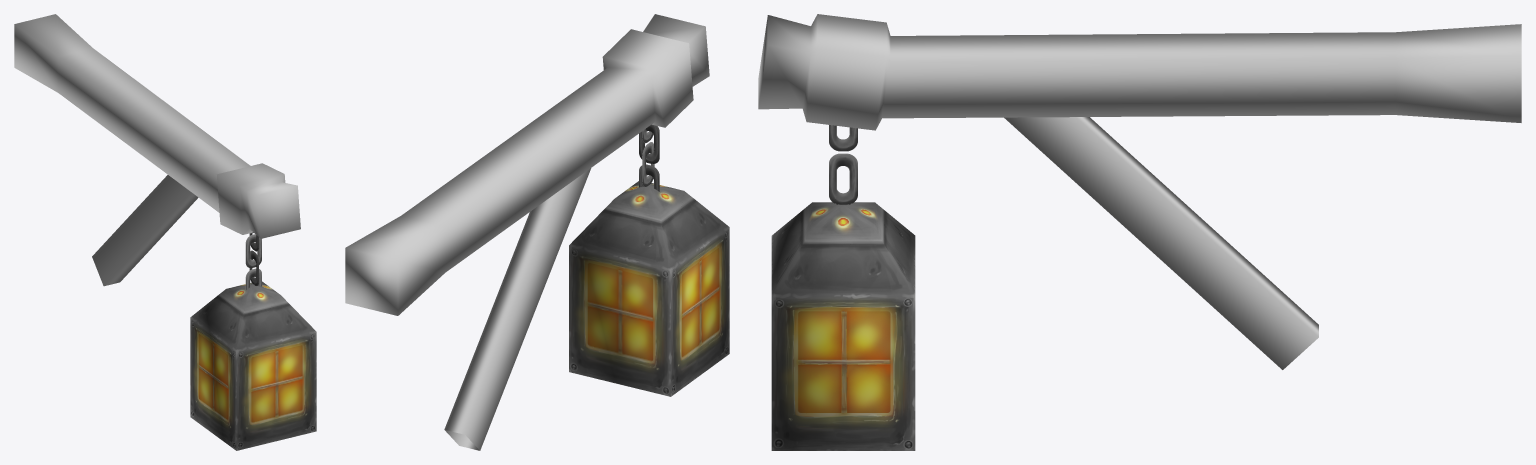
The model's file is M_Lamp.fbx.
3 views of the same model, side by side, from view 1: azimuth 30°, elevation 25°; view 2: azimuth 150°, elevation 25°; view 3: azimuth 270°, elevation 25° (orthographic). The views are drawn at different scales.
Visible parts, largest first — view 1: M_Lamp; view 2: M_Lamp; view 3: M_Lamp.
Part boxes in pixels (x1,y1,x2,y2): M_Lamp: (14, 14, 316, 450); M_Lamp: (345, 14, 729, 450); M_Lamp: (758, 14, 1521, 450).
Size of the model in its own units: 0.5743 by 1.72 by 3.05.
